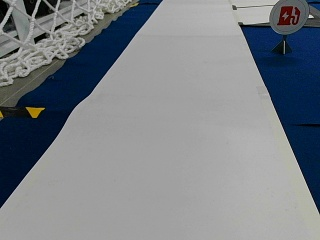battery: (268, 0, 309, 35)
